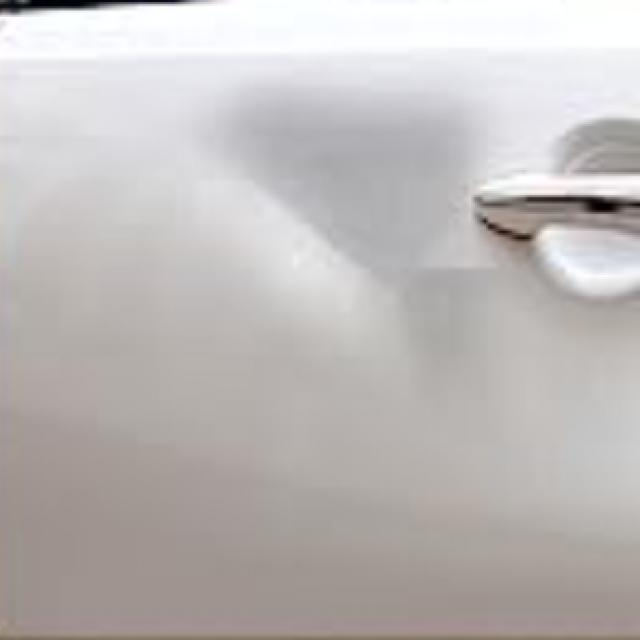dents: (176, 71, 471, 371)
